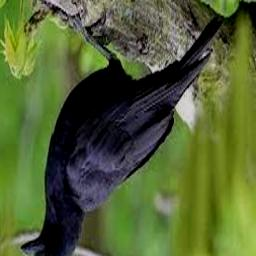Crow: (19, 15, 223, 256)
